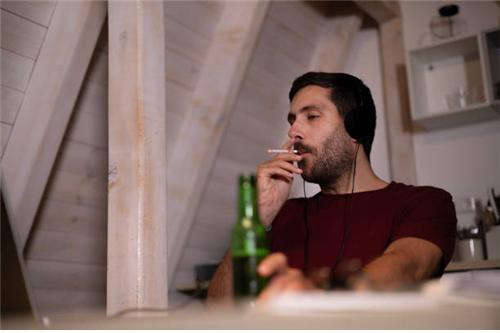alcohol: (228, 172, 275, 304)
cigarette: (266, 146, 298, 156)
